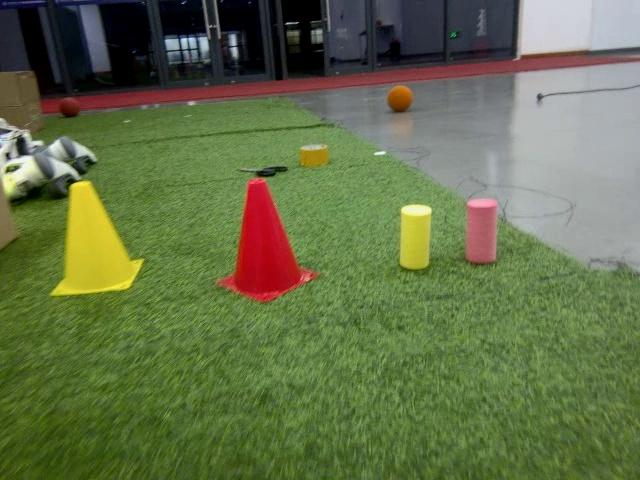orange_ball: (384, 84, 414, 112)
red_barrel: (217, 177, 324, 306)
red_cylinder: (464, 197, 500, 265)
yellow_barrel: (50, 181, 144, 297)
yellow_cylinder: (397, 201, 434, 273)
